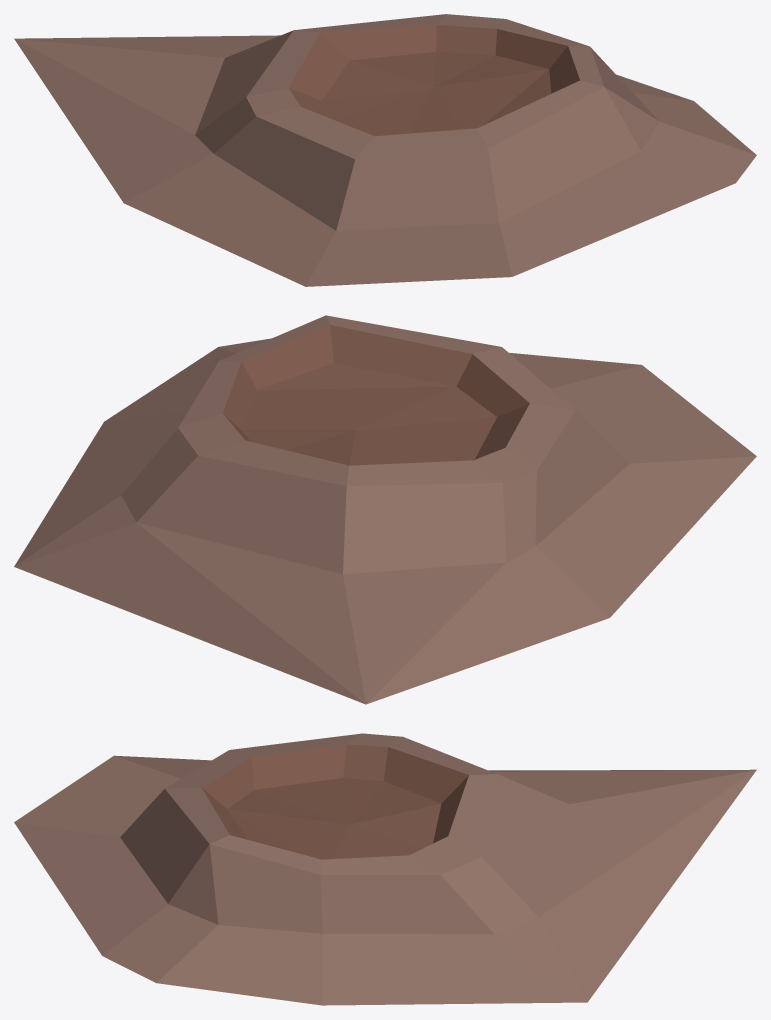
The model's file is Hill_023.fbx.
3 renders of one model, top to bottom at view 1: azimuth 30°, elevation 25°; view 2: azimuth 150°, elevation 25°; view 3: azimuth 270°, elevation 25°, orthographic. The views are drawn at different scales.
Visible parts, largest first — view 1: Hill_023; view 2: Hill_023; view 3: Hill_023.
Part boxes in pixels (<box>): Hill_023: <box>14,14,756,286</box>; Hill_023: <box>14,315,756,704</box>; Hill_023: <box>14,733,756,1005</box>.
Size of the model in its own units: 134 by 168 by 28.74.
Materials: 1 (1 with a texture image).
